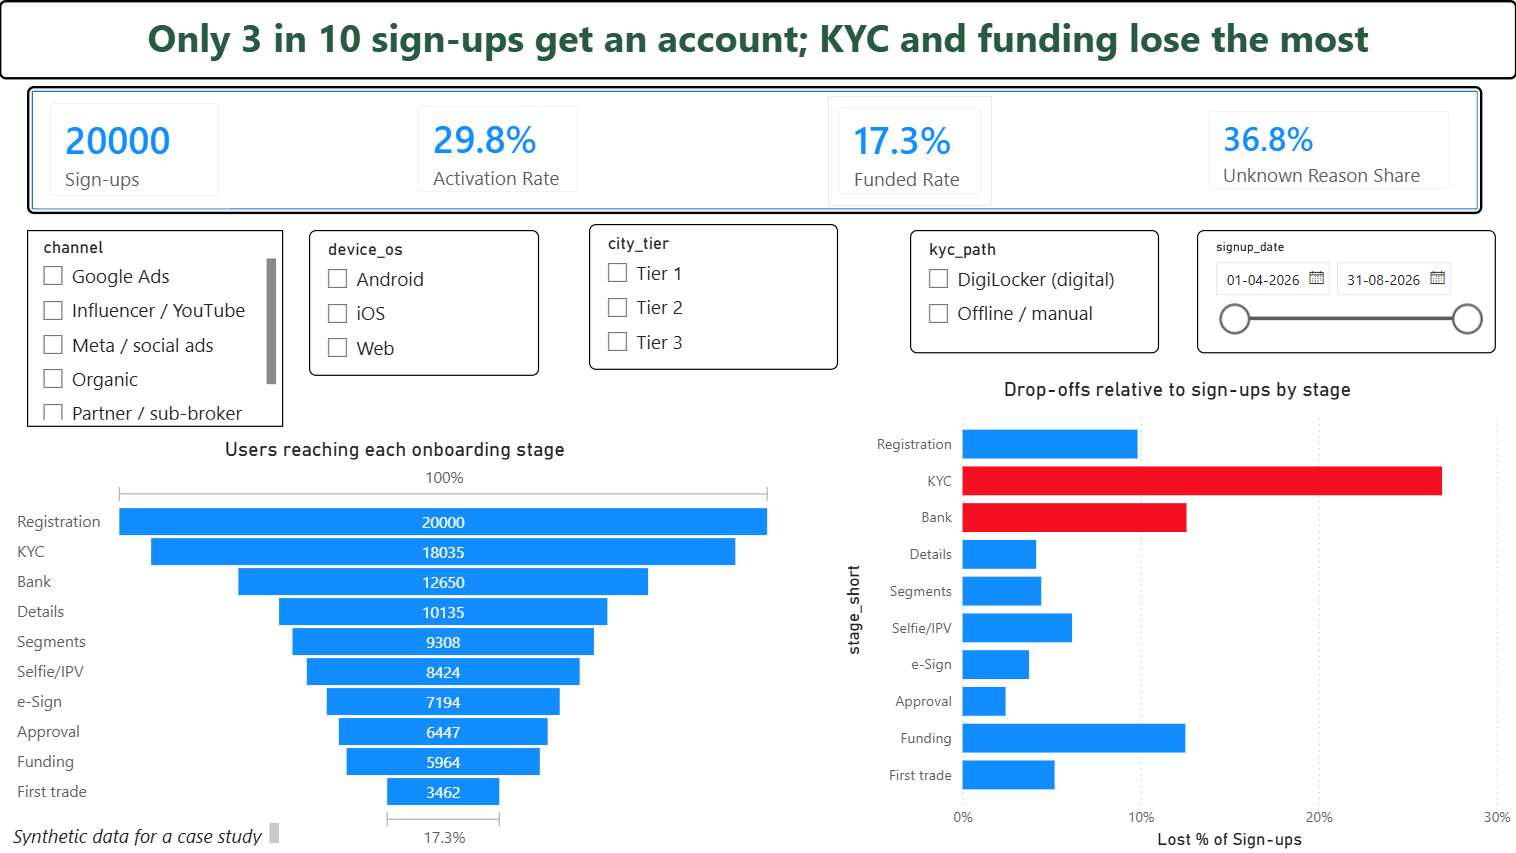

The page's visual inventory and layout, read from the dashboard file:
{"tool":"powerbi","page":{"name":"Funnel Overview","canvas":[1280,720],"ordinal":0},"visuals":[{"type":"shape","box":[23.6,72.7,1227.3,108.2],"z":0},{"type":"cardVisual","fields":{"Data":["funnel_events.Sign-ups"]},"box":[33.8,77.5,161.2,97.5],"z":1000},{"type":"cardVisual","fields":{"Data":["funnel_events.Activation Rate"]},"box":[343.8,80,153.8,91.2],"z":2000},{"type":"cardVisual","fields":{"Data":["funnel_events.Funded Rate"]},"box":[699.1,80.9,138.2,92.7],"z":3000},{"type":"cardVisual","fields":{"Data":["funnel_events.Unknown Reason Share"]},"box":[1010,84.5,222.7,84.5],"z":4000},{"type":"funnel","title":"Users reaching each onboarding stage","fields":{"Category":["dim_stage.stage_short"],"Y":["funnel_events.Entered"]},"box":[10,368.8,647.5,351.2],"z":5000},{"type":"clusteredBarChart","title":"Drop-offs relative to sign-ups by stage","fields":{"Category":["dim_stage.stage_short"],"Y":["funnel_events.Lost % of Sign-ups"]},"box":[707.5,317.5,572.5,402.5],"z":6000},{"type":"slicer","fields":{"Values":["users.channel"]},"box":[23.8,193.8,216.2,166.2],"z":7000},{"type":"slicer","fields":{"Values":["users.device_os"]},"box":[261.4,194.3,194.3,122.9],"z":8000},{"type":"slicer","fields":{"Values":["users.city_tier"]},"box":[497.1,188.6,210,122.9],"z":9000},{"type":"slicer","fields":{"Values":["users.kyc_path"]},"box":[768.5,193.8,210,103.8],"z":10000},{"type":"slicer","fields":{"Values":["users.signup_date"]},"box":[1010,194.2,251.7,104.2],"z":11000},{"type":"textbox","box":[0,0,1280,66.7],"z":12000},{"type":"textbox","box":[0,688.9,241.1,28.9],"z":12001}]}

Visuals, with their boxes in screenshot pixels (x1, y1, x2, y2), scaled from the page's 1280x720 canvas onto the 1516x853 screenshot:
shape: (28, 86, 1482, 214)
cardVisual - funnel_events.Sign-ups: (40, 92, 231, 207)
cardVisual - funnel_events.Activation Rate: (407, 95, 589, 203)
cardVisual - funnel_events.Funded Rate: (828, 96, 992, 206)
cardVisual - funnel_events.Unknown Reason Share: (1196, 100, 1460, 200)
"Users reaching each onboarding stage" funnel: (12, 437, 779, 852)
"Drop-offs relative to sign-ups by stage" clusteredBarChart: (838, 376, 1515, 852)
slicer - users.channel: (28, 230, 284, 426)
slicer - users.device_os: (310, 230, 540, 376)
slicer - users.city_tier: (589, 223, 837, 369)
slicer - users.kyc_path: (910, 230, 1159, 353)
slicer - users.signup_date: (1196, 230, 1494, 354)
textbox: (0, 0, 1515, 79)
textbox: (0, 816, 286, 850)
